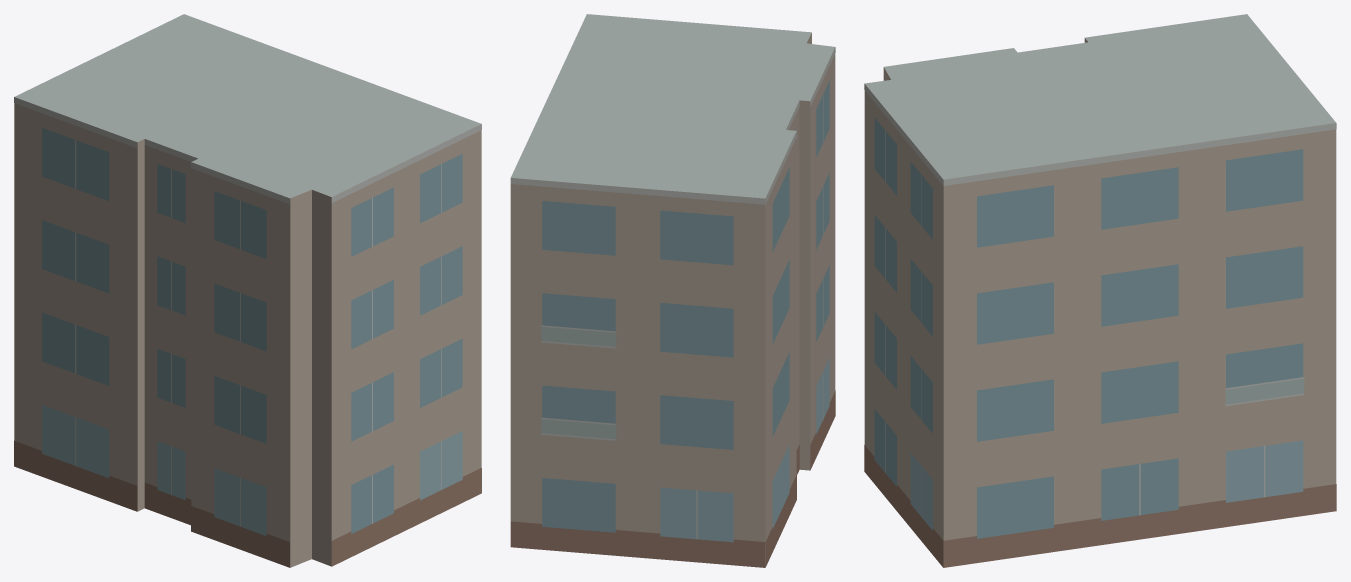
File: survey-upis-32758893.glb
3 renders of one model, left to right at view 1: azimuth 30°, elevation 25°; view 2: azimuth 150°, elevation 25°; view 3: azimuth 270°, elevation 25°, orthographic. The views are drawn at different scales.
Visible parts, largest first — view 1: survey-upis-32758893.tmp; view 2: survey-upis-32758893.tmp; view 3: survey-upis-32758893.tmp.
Part boxes in pixels (x1,y1,x2,y2): survey-upis-32758893.tmp: (14,14,481,567); survey-upis-32758893.tmp: (510,14,835,567); survey-upis-32758893.tmp: (864,14,1336,567).
Bounding box in the file's own units: 13.56 × 14.8 × 16.32.
